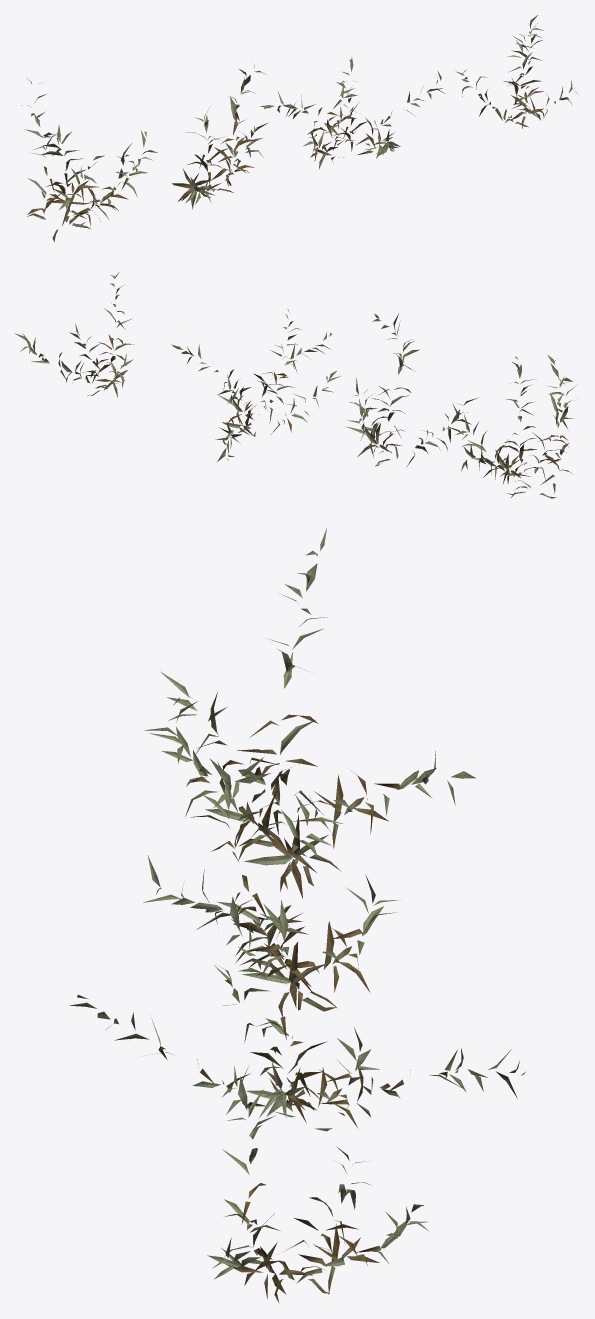
File: shrub_02.glb
3 views of the same model, one above another, from view 1: azimuth 30°, elevation 25°; view 2: azimuth 150°, elevation 25°; view 3: azimuth 270°, elevation 25° (orthographic). The views are drawn at different scales.
Parts seen in each view (by area): view 1: shrub_02_a; view 2: shrub_02_a; view 3: shrub_02_a.
Part boxes in pixels (box(x1,y1,x2,y2)): shrub_02_a: box(22, 15, 578, 242); shrub_02_a: box(15, 272, 576, 498); shrub_02_a: box(70, 528, 525, 1303).
Bounding box in the file's own units: 6.05 × 1.7 × 2.25.
Materials: 1 (1 with a texture image).
